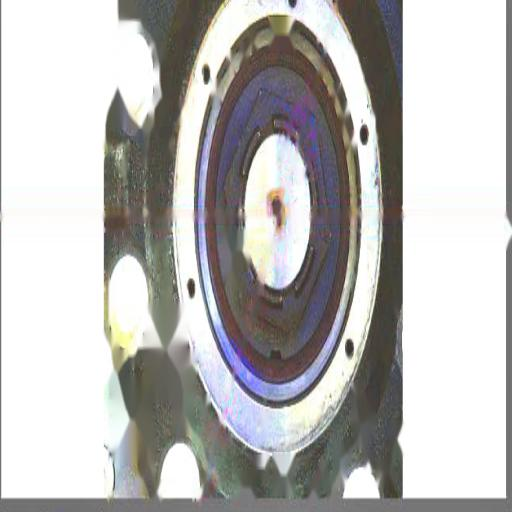center: (267, 185, 283, 223)
notch: (267, 344, 284, 370)
